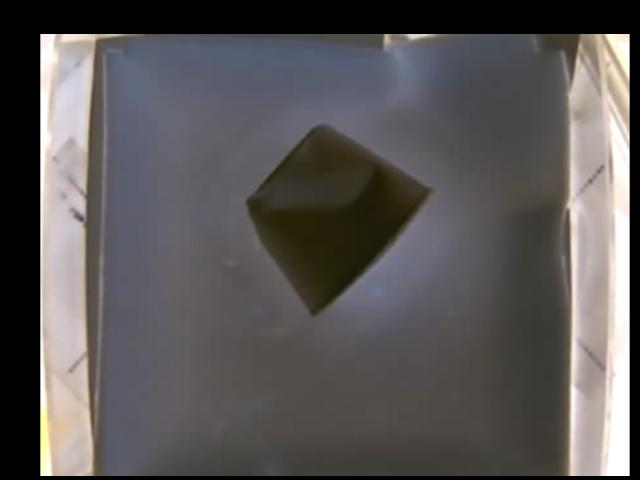Cup: (247, 122, 434, 318)
